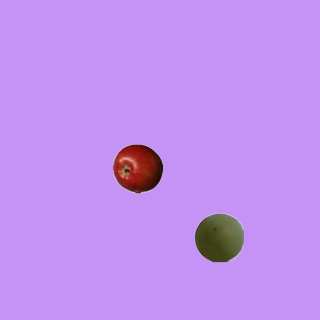Apple Braeburn: (112, 143, 162, 193)
Grape White 4: (193, 212, 243, 262)
